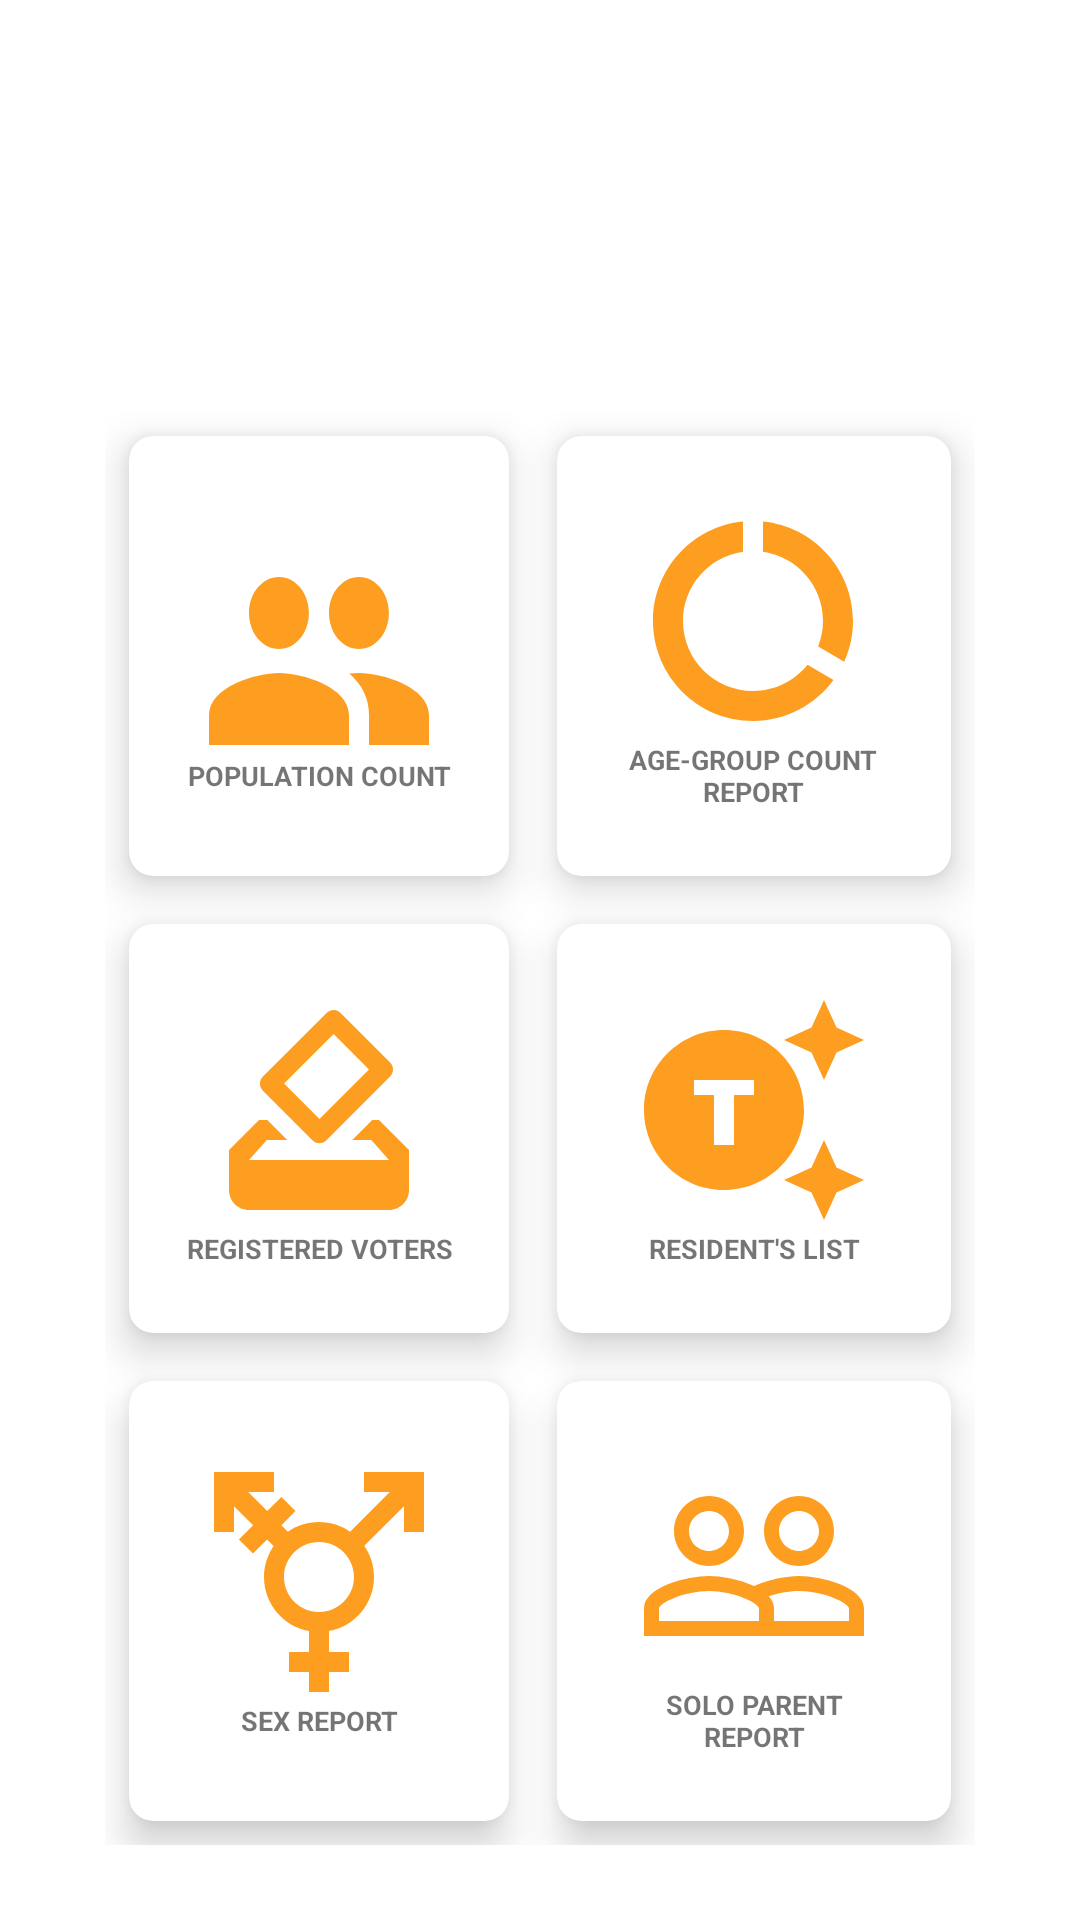

Icon click points for this 1080px x 1920px phone screenshot, format (x=x, y=y):
generate: (x=754, y=1110)
people: (x=319, y=661)
tgender: (x=319, y=1582)
